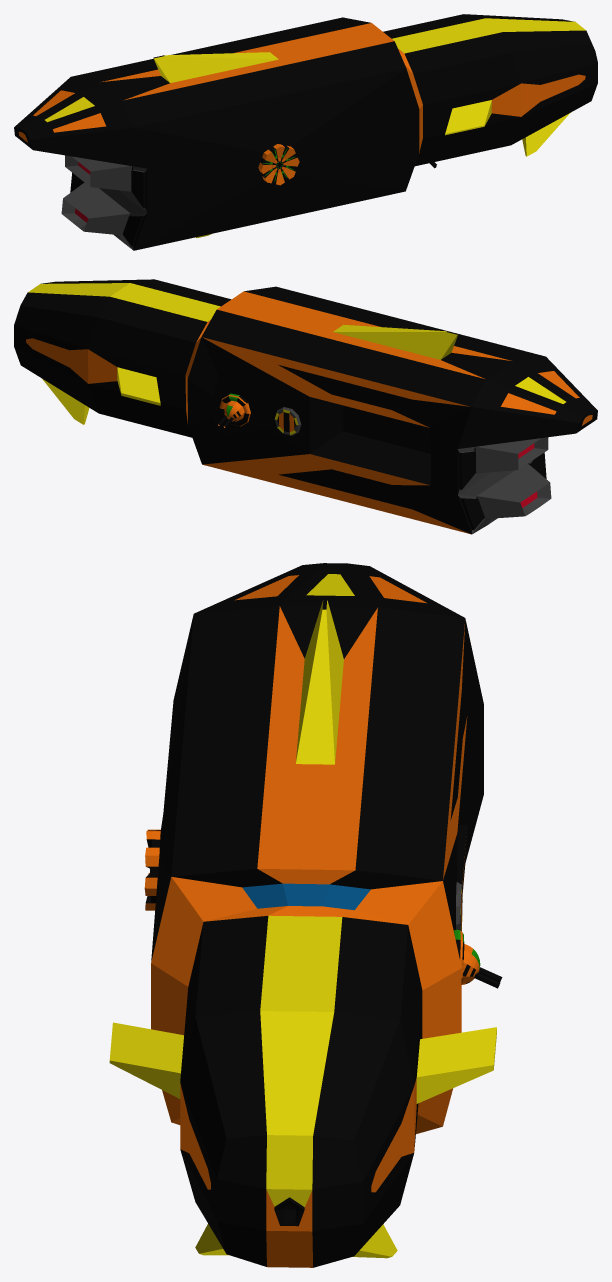
File: Tukialus.fbx
3 views of the same model, one above another, from view 1: azimuth 30°, elevation 25°; view 2: azimuth 150°, elevation 25°; view 3: azimuth 270°, elevation 25° (orthographic). The views are drawn at different scales.
Visible parts, largest first — view 1: Circle.001; view 2: Circle.001; view 3: Circle.001.
Boxes of the visible parts, x1,y1,x2,y2 form: Circle.001: (14,14,597,250); Circle.001: (14,279,597,534); Circle.001: (109,563,502,1267).
Size of the model in its own units: 2426 by 784 by 736.
